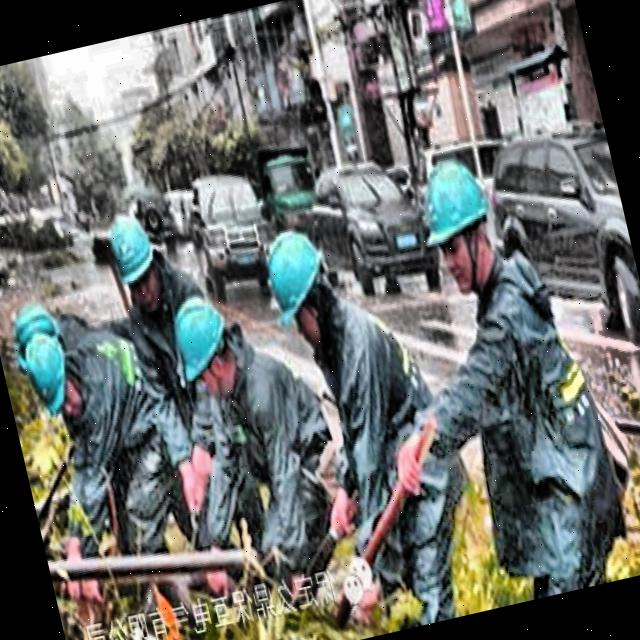helmet: (404, 148, 506, 300), (252, 218, 344, 351), (162, 282, 250, 408), (100, 202, 172, 328), (15, 326, 86, 419), (4, 298, 68, 381)
